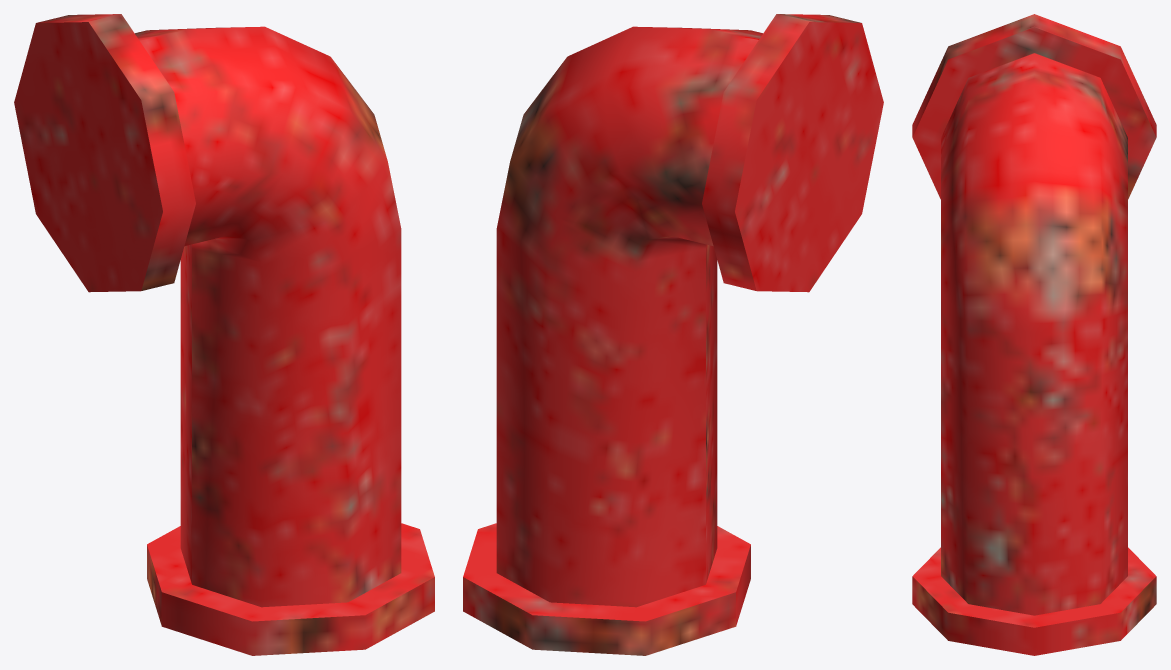
The model's file is SM_PROP_PIPE_METAL_04.fbx.
3 views of the same model, side by side, from view 1: azimuth 30°, elevation 25°; view 2: azimuth 150°, elevation 25°; view 3: azimuth 270°, elevation 25° (orthographic). The views are drawn at different scales.
Parts seen in each view (by area): view 1: SM_PROP_PIPE_METAL_04; view 2: SM_PROP_PIPE_METAL_04; view 3: SM_PROP_PIPE_METAL_04.
Boxes of the visible parts, x1,y1,x2,y2 form: SM_PROP_PIPE_METAL_04: (14, 14, 434, 655); SM_PROP_PIPE_METAL_04: (463, 14, 883, 655); SM_PROP_PIPE_METAL_04: (912, 14, 1156, 655).
Bounding box in the file's own units: 0.5029 × 0.9026 × 0.3917.
